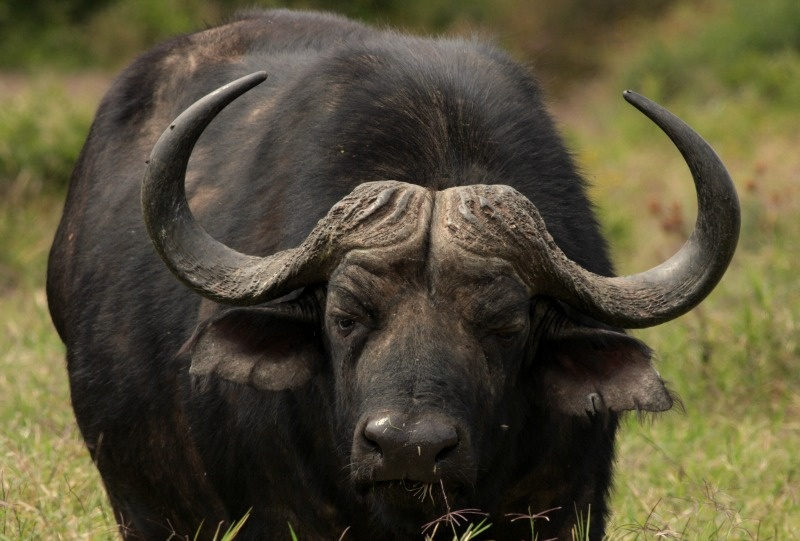buffalo: (47, 9, 742, 541)
